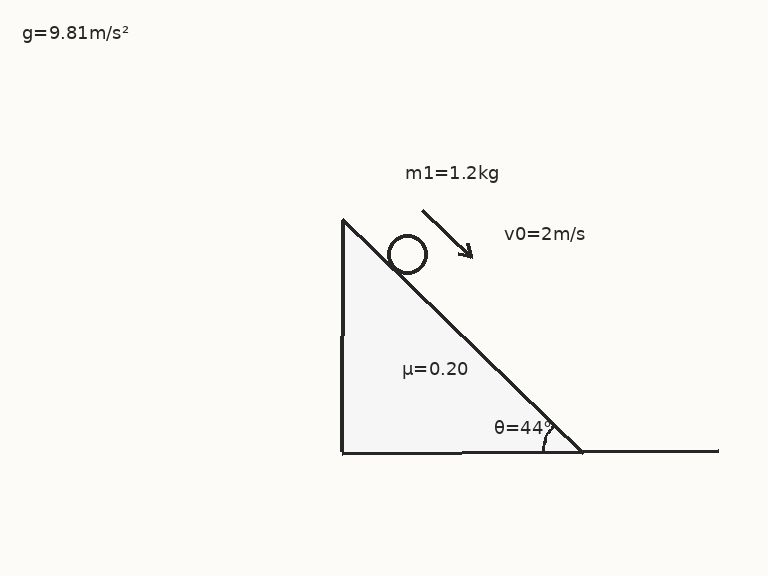ball: (385, 232, 429, 276)
ramp: (340, 217, 585, 454)
